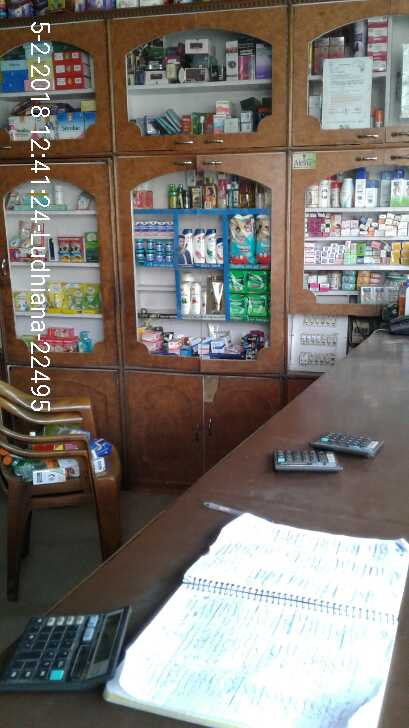vicks: (132, 216, 180, 264)
